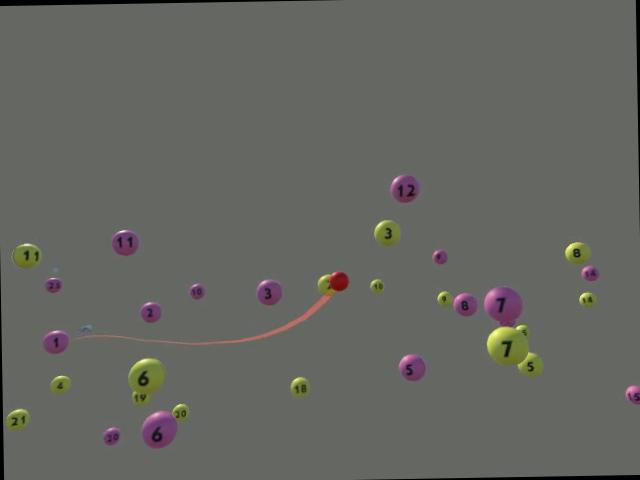ball_01_pink: (42, 330, 68, 354)
ball_02_pink: (139, 301, 161, 322)
ball_03_pink: (256, 278, 282, 305)
ball_03_yellow: (373, 219, 400, 246)
ball_04_yellow: (50, 374, 70, 392)
ball_05_pink: (398, 354, 425, 380)
ball_05_yellow: (517, 352, 543, 376)
ball_06_pink: (140, 410, 178, 449)
ball_06_yellow: (127, 357, 165, 394)
ball_07_pink: (482, 284, 522, 326)
ball_07_yellow: (486, 324, 528, 366)
ball_08_pink: (452, 292, 477, 316)
ball_08_yellow: (564, 241, 590, 264)
ball_09_pink: (432, 247, 448, 263)
ball_09_yellow: (436, 290, 451, 306)
ball_10_yellow: (369, 278, 384, 292)
ball_11_pink: (111, 228, 138, 254)
ball_11_yellow: (11, 242, 41, 268)
ball_12_pink: (389, 173, 419, 202)
ball_14_pink: (580, 264, 600, 281)
ball_14_yellow: (578, 290, 596, 306)
ball_15_pink: (624, 383, 640, 404)
ball_16_pink: (188, 282, 204, 298)
ball_18_yellow: (290, 376, 308, 396)
ball_20_pink: (102, 426, 120, 445)
ball_20_yellow: (171, 402, 189, 420)
ball_21_yellow: (6, 407, 29, 430)
ball_25_pink: (44, 276, 62, 292)
ball_unknown: (317, 273, 331, 294), (130, 390, 150, 404), (516, 324, 528, 338)
user_cursor: (328, 270, 348, 290)
